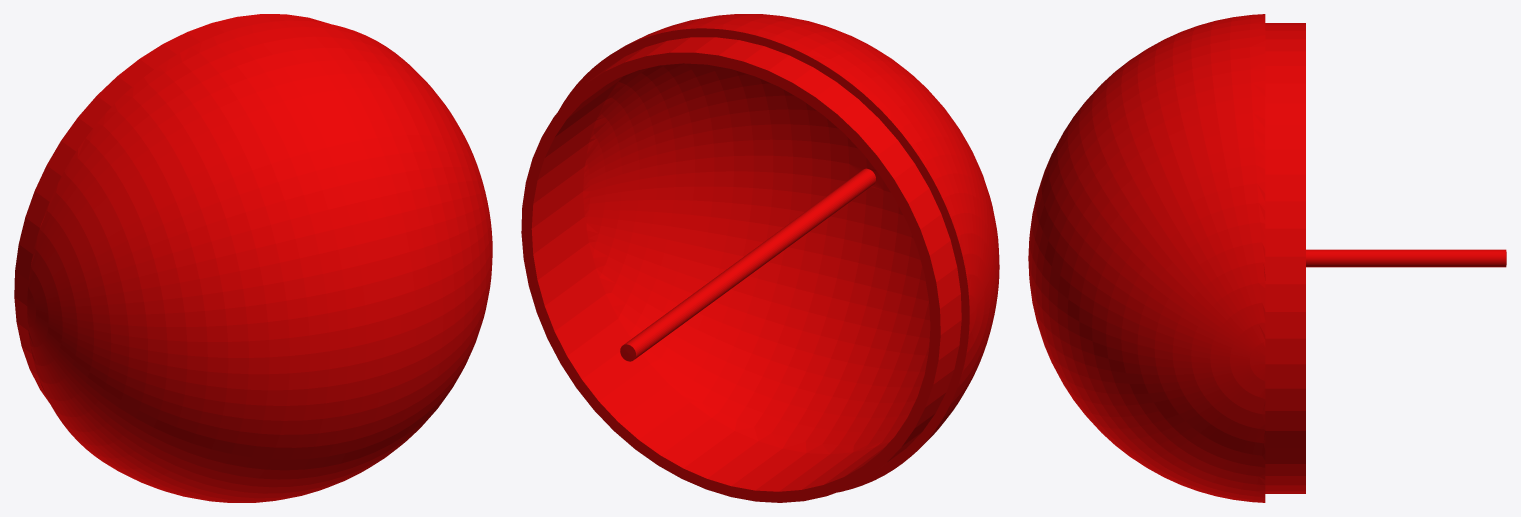
Rendered from wb-shell-fixedhemi.dae.
3 renders of one model, left to right at view 1: azimuth 30°, elevation 25°; view 2: azimuth 150°, elevation 25°; view 3: azimuth 270°, elevation 25°, orthographic. The views are drawn at different scales.
Visible parts, largest first — view 1: wb-shell-fixedhemi; view 2: wb-shell-fixedhemi; view 3: wb-shell-fixedhemi.
Boxes of the visible parts, x1,y1,x2,y2 form: wb-shell-fixedhemi: (14,14,492,502); wb-shell-fixedhemi: (521,14,999,502); wb-shell-fixedhemi: (1028,14,1506,502).
Size of the model in its own units: 0.0817 by 0.0799 by 0.0817.
